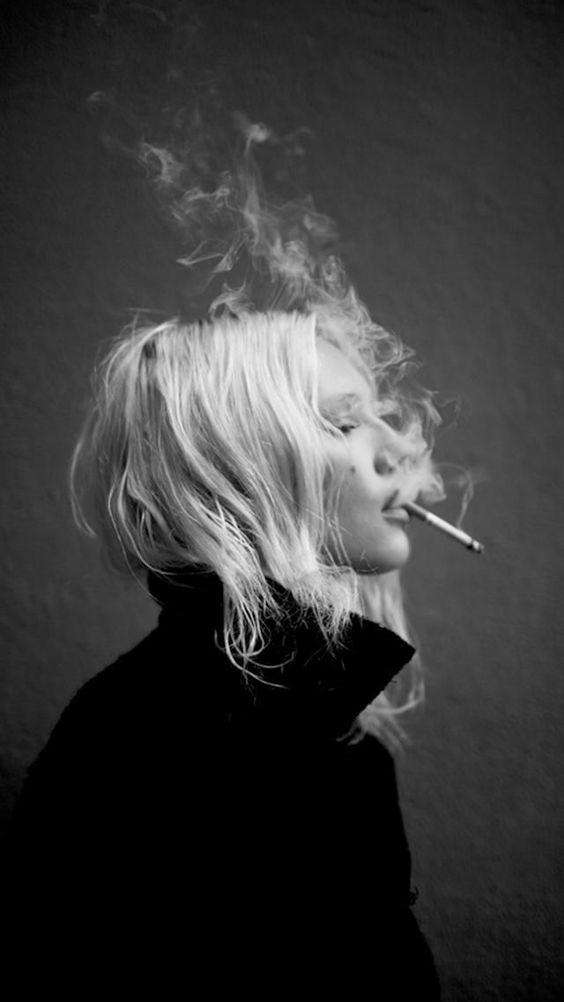cigarette: (397, 496, 487, 557)
